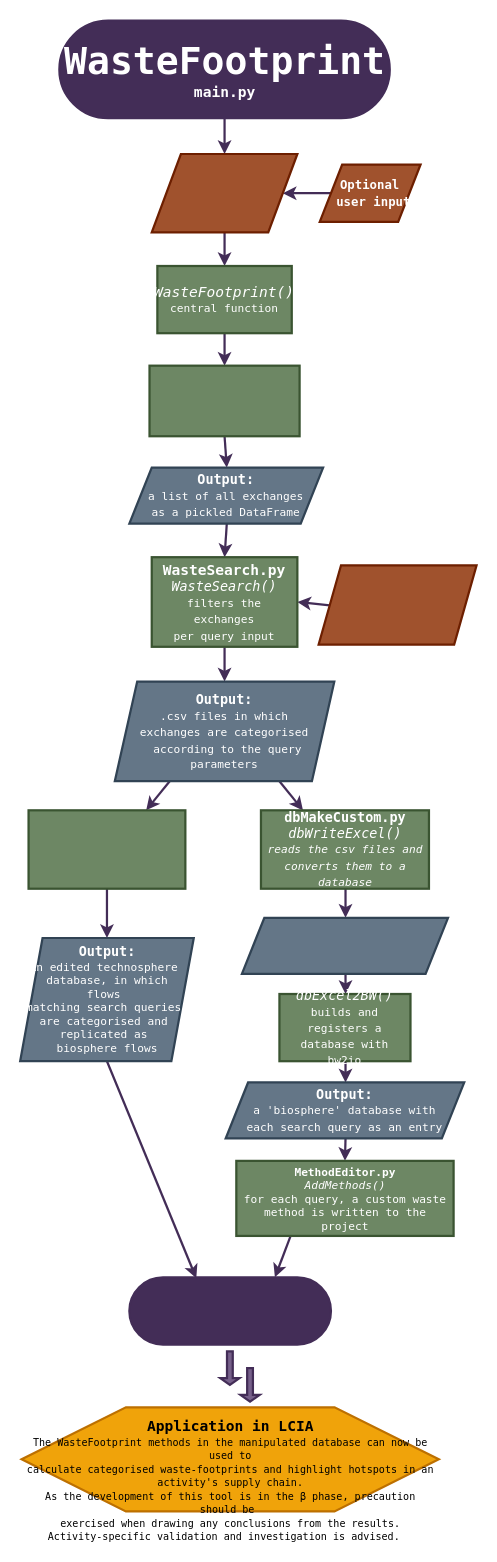
The diagram is 497 pixels wide and 1562 high, and some of its shapes have lost their labels. Each missing label, with the centre of its shape:
"Arguments: project_name database_name" goes at (x=224, y=192).
"dbExplode.py dbExplode() uses wurst to unpack the database" goes at (x=224, y=400).
"End of WasteFootprint main.py" goes at (x=230, y=1310).
"ExchangeEditor.py ExchangeEditor() uses bw2data to edit exchanges" goes at (x=106, y=849).
"Optional user input: query names query parameters" goes at (x=397, y=604).
"Output: an .xlsx in the format of a Brightway2 database" goes at (x=344, y=945).
